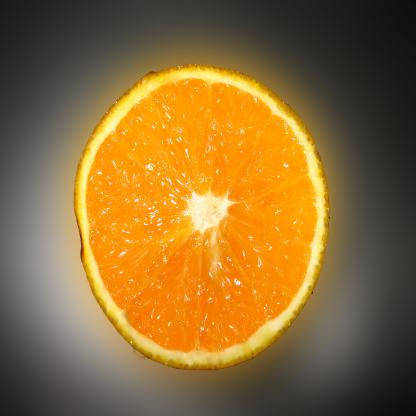Orange: (72, 61, 330, 370)
